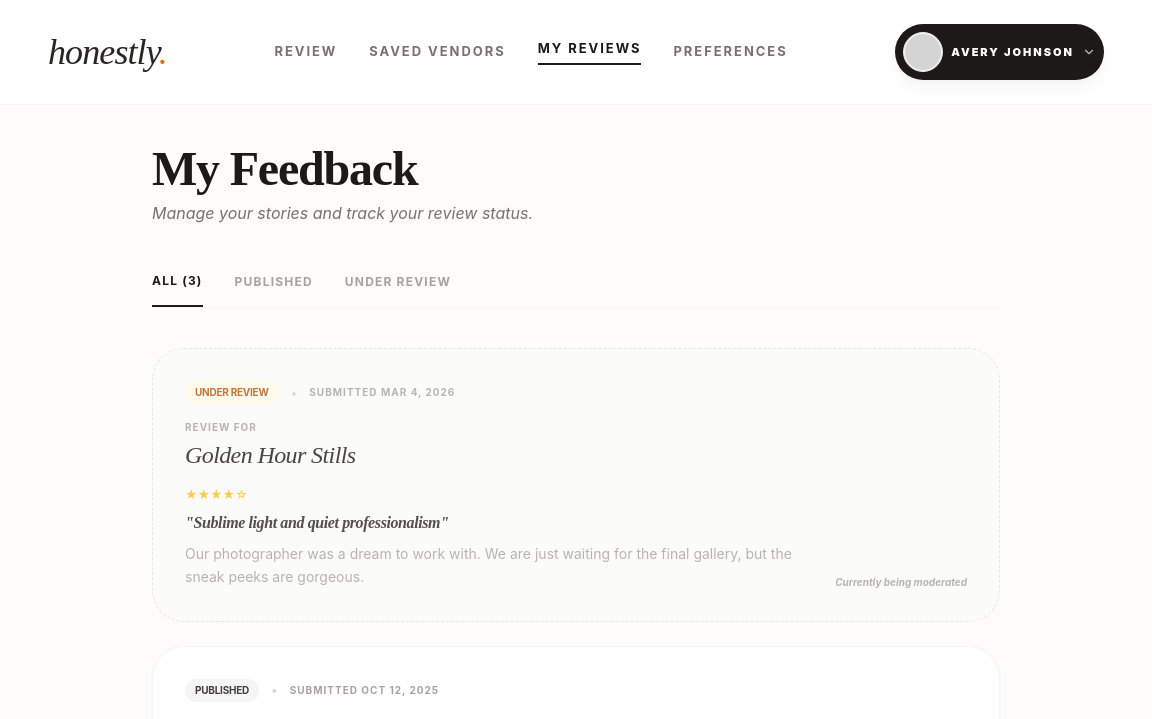
Scenario: MyReviewsScreen › filters review history and opens the edit flow
Expected: the heading "My Feedback" is shown, [152,142,417,195]
Expected: the link "Golden Hour Stills" is shown, [185,442,356,468]
Click the button "Published" at (274, 290), box [235,273,313,307]
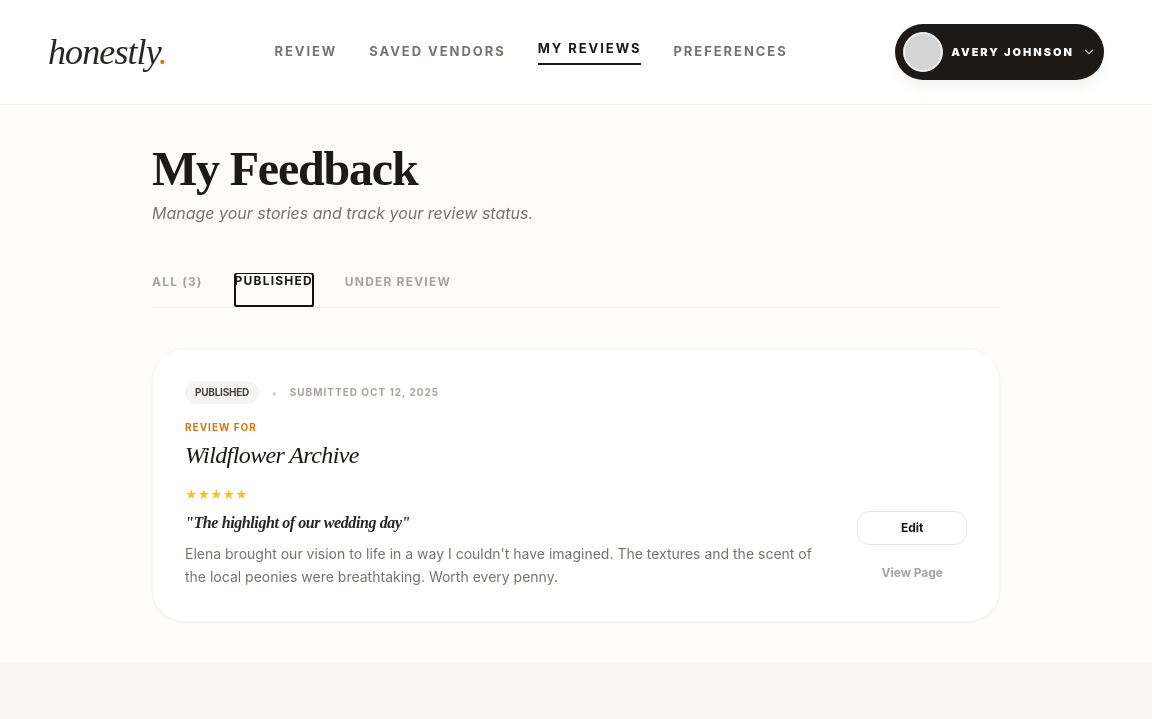
Expected: the link "Wildflower Archive" is shown, [185,442,359,468]
Expected: the link "Golden Hour Stills" is gone
Click the button "All (3)" at (177, 290), box [152,273,203,307]
(page scrolled)
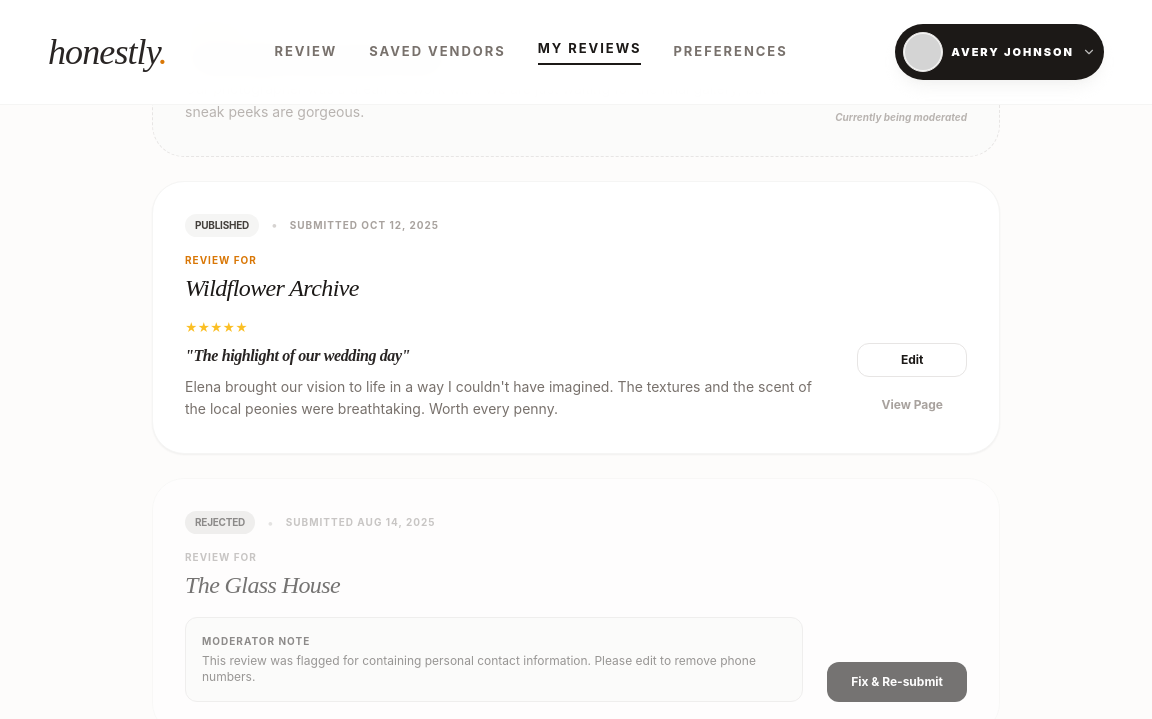
Click the button "Edit" at (912, 360), box [857,343,967,377]
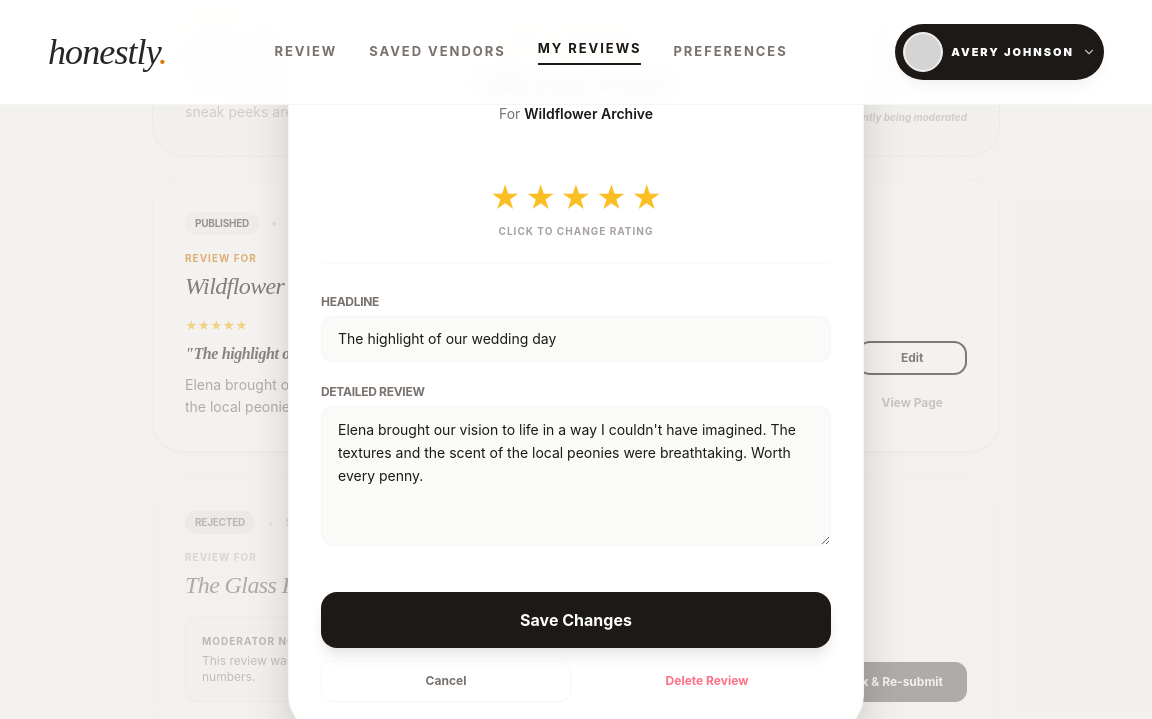
Expected: the heading "Edit your review" is shown, [475,65,677,98]
Expected: the field showing "The highlight of our wedding day" is shown, [321,316,831,362]
